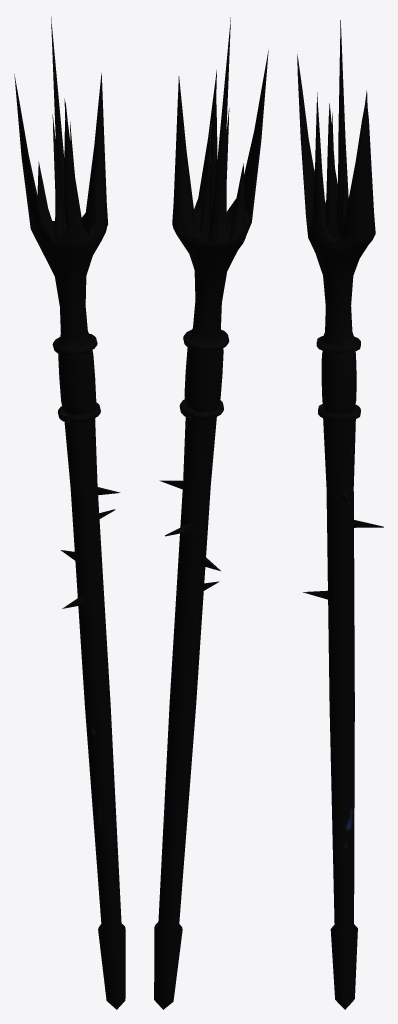
The model's file is lance des geant texturer.fbx.
3 views of the same model, side by side, from view 1: azimuth 30°, elevation 25°; view 2: azimuth 210°, elevation 25°; view 3: azimuth 330°, elevation 25° (orthographic). The views are drawn at different scales.
Visible parts, largest first — view 1: node_id4; view 2: node_id4; view 3: node_id4.
Boxes of the visible parts, x1=… form: node_id4: x1=14, y1=17, x2=125, y2=1009; node_id4: x1=154, y1=17, x2=268, y2=1009; node_id4: x1=297, y1=20, x2=383, y2=1009.
Size of the model in its own units: 0.0515 by 0.5108 by 0.0396.
1 material, 1 textured.
